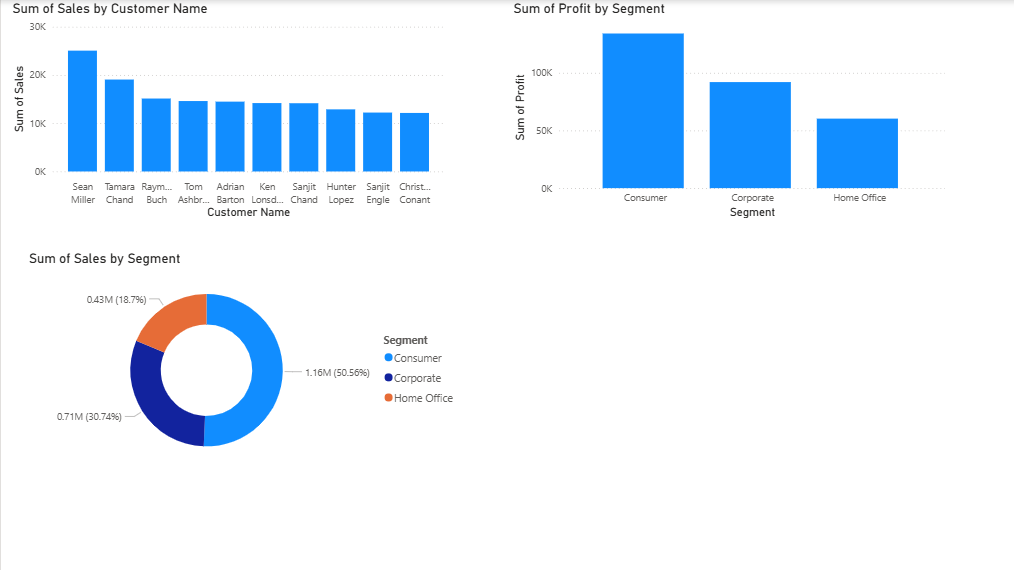

The dashboard page shown, as its layout file describes it:
{"tool":"powerbi","page":{"name":"Customer Analysis","canvas":[1280,720],"ordinal":2},"visuals":[{"type":"clusteredColumnChart","fields":{"Category":["Sample - Superstore.Customer Name"],"Y":["Sum(Sample - Superstore.Sales)"]},"box":[9.4,0,553.7,279.7],"z":0},{"type":"donutChart","fields":{"Category":["Sample - Superstore.Segment"],"Y":["Sum(Sample - Superstore.Sales)"]},"box":[30.2,315.6,553.7,281.6],"z":1000},{"type":"clusteredColumnChart","fields":{"Category":["Sample - Superstore.Segment"],"Y":["Sum(Sample - Superstore.Profit)"]},"box":[640.6,0,553.7,279.7],"z":2000}]}

Visuals, with their boxes in screenshot pixels (x1, y1, x2, y2), scaled from the page's 1280x720 canvas onto the 1014x570 screenshot:
clusteredColumnChart - Sample - Superstore.Customer Name x Sum(Sample - Superstore.Sales): 7, 0, 446, 221
donutChart - Sample - Superstore.Segment x Sum(Sample - Superstore.Sales): 24, 250, 463, 473
clusteredColumnChart - Sample - Superstore.Segment x Sum(Sample - Superstore.Profit): 507, 0, 946, 221
